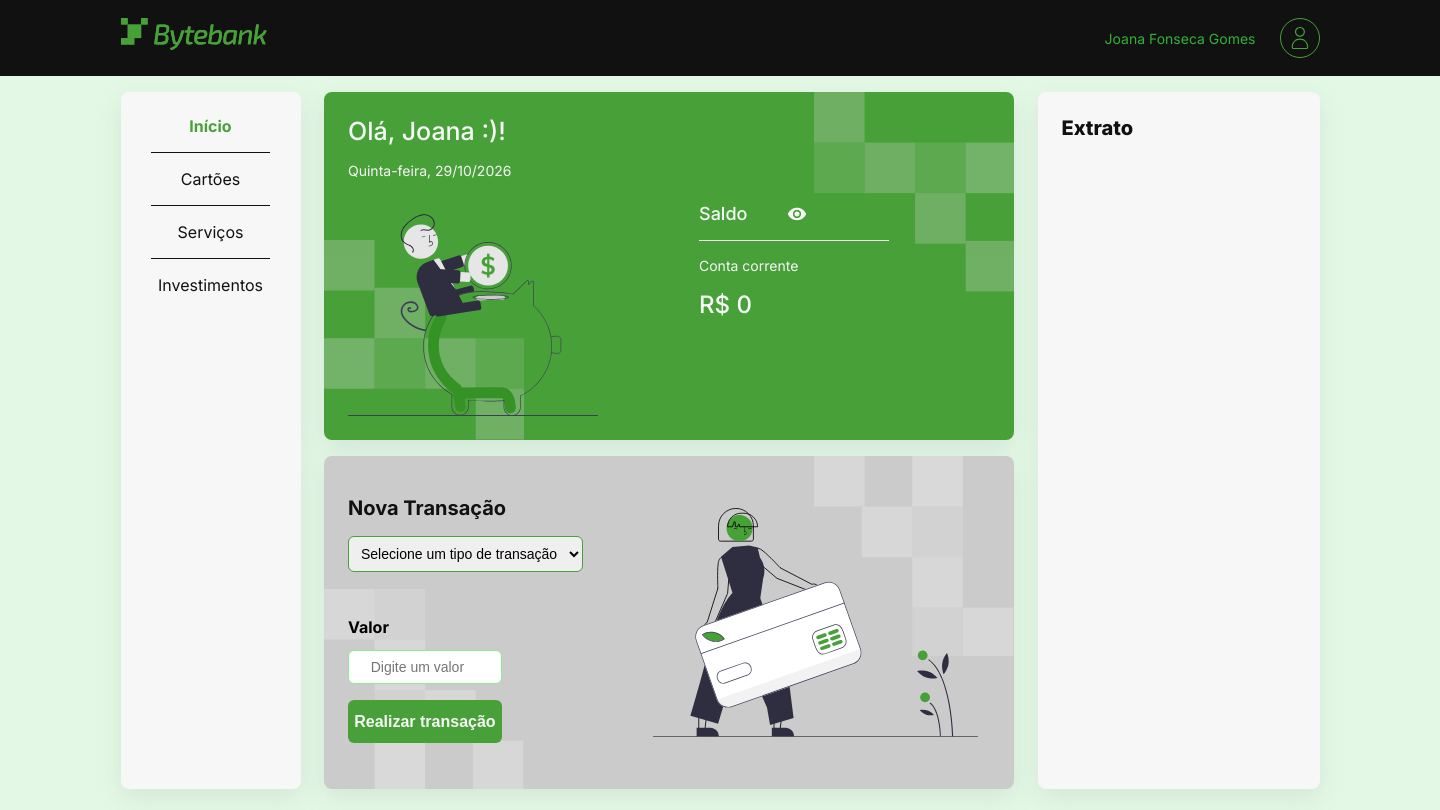
App › Deve navegar até a página Investimentos quando o link Investimentos for clicado
What coordinates should you click on to do the following:
click the link "Investimentos"
I would click on:
 (210, 285)
Its box is [158,275,263,295].
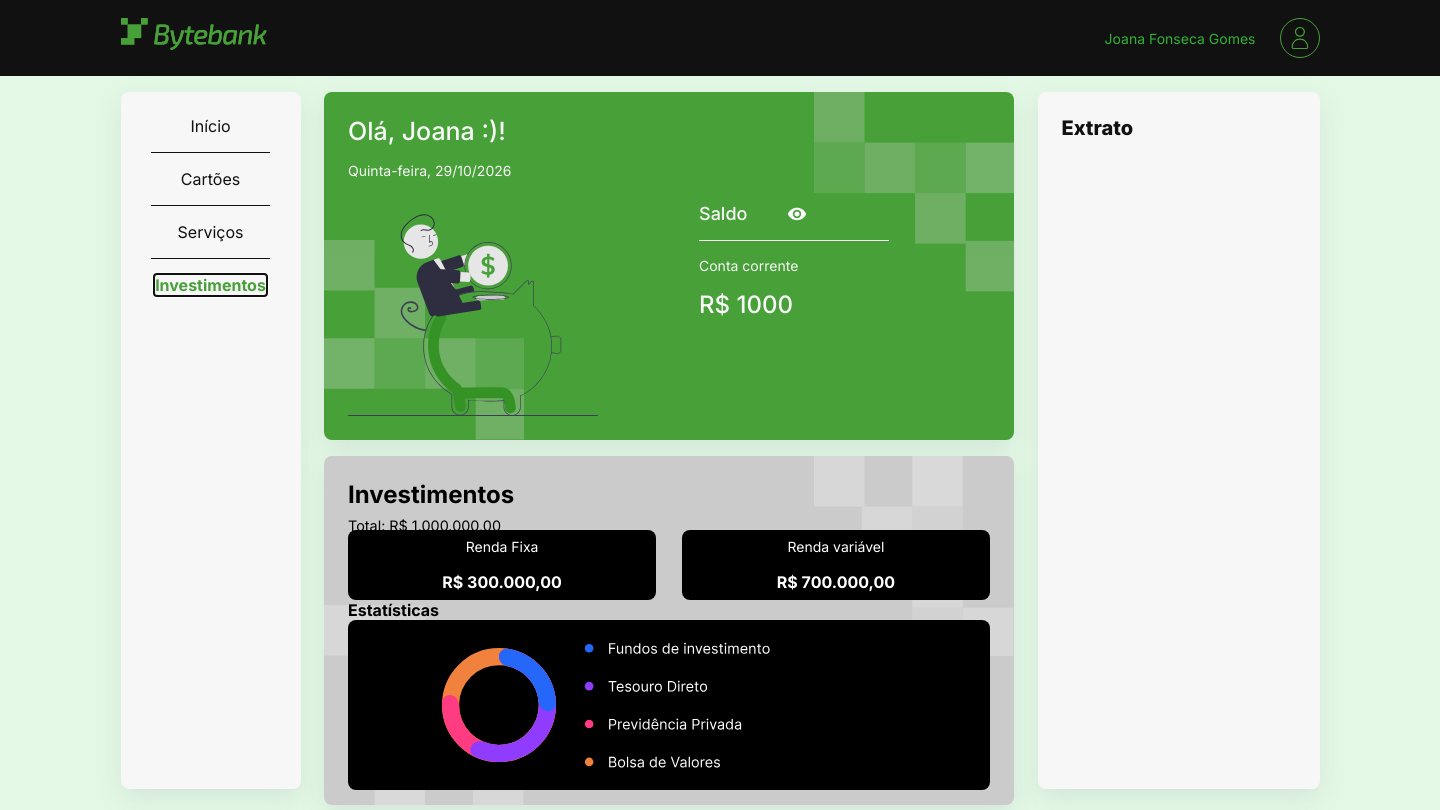
Now the heading "Investimentos" is shown, box [348,480,514,509]
